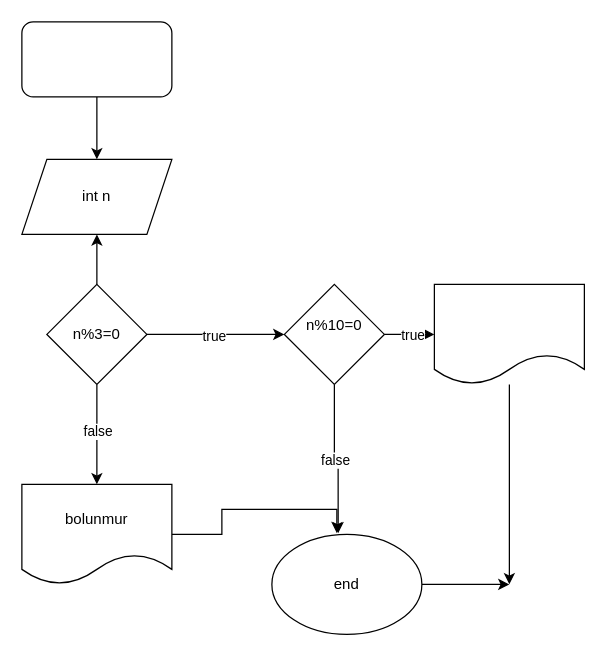
The diagram is 606 pixels wide and 656 high, and some of its shapes have lost their labels. The shapes that lost their labels are listed below. From the top down, each one's box as (x1, y1, x2, y2) in pixels, then its label:
(21, 21, 172, 97): start
(433, 283, 584, 384): bolunur
